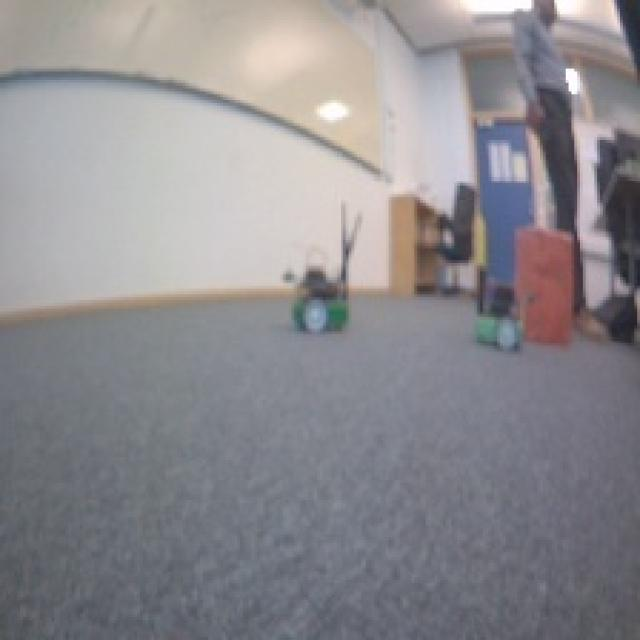robot: (289, 264, 353, 334), (470, 278, 526, 351)
target: (512, 223, 577, 346)
